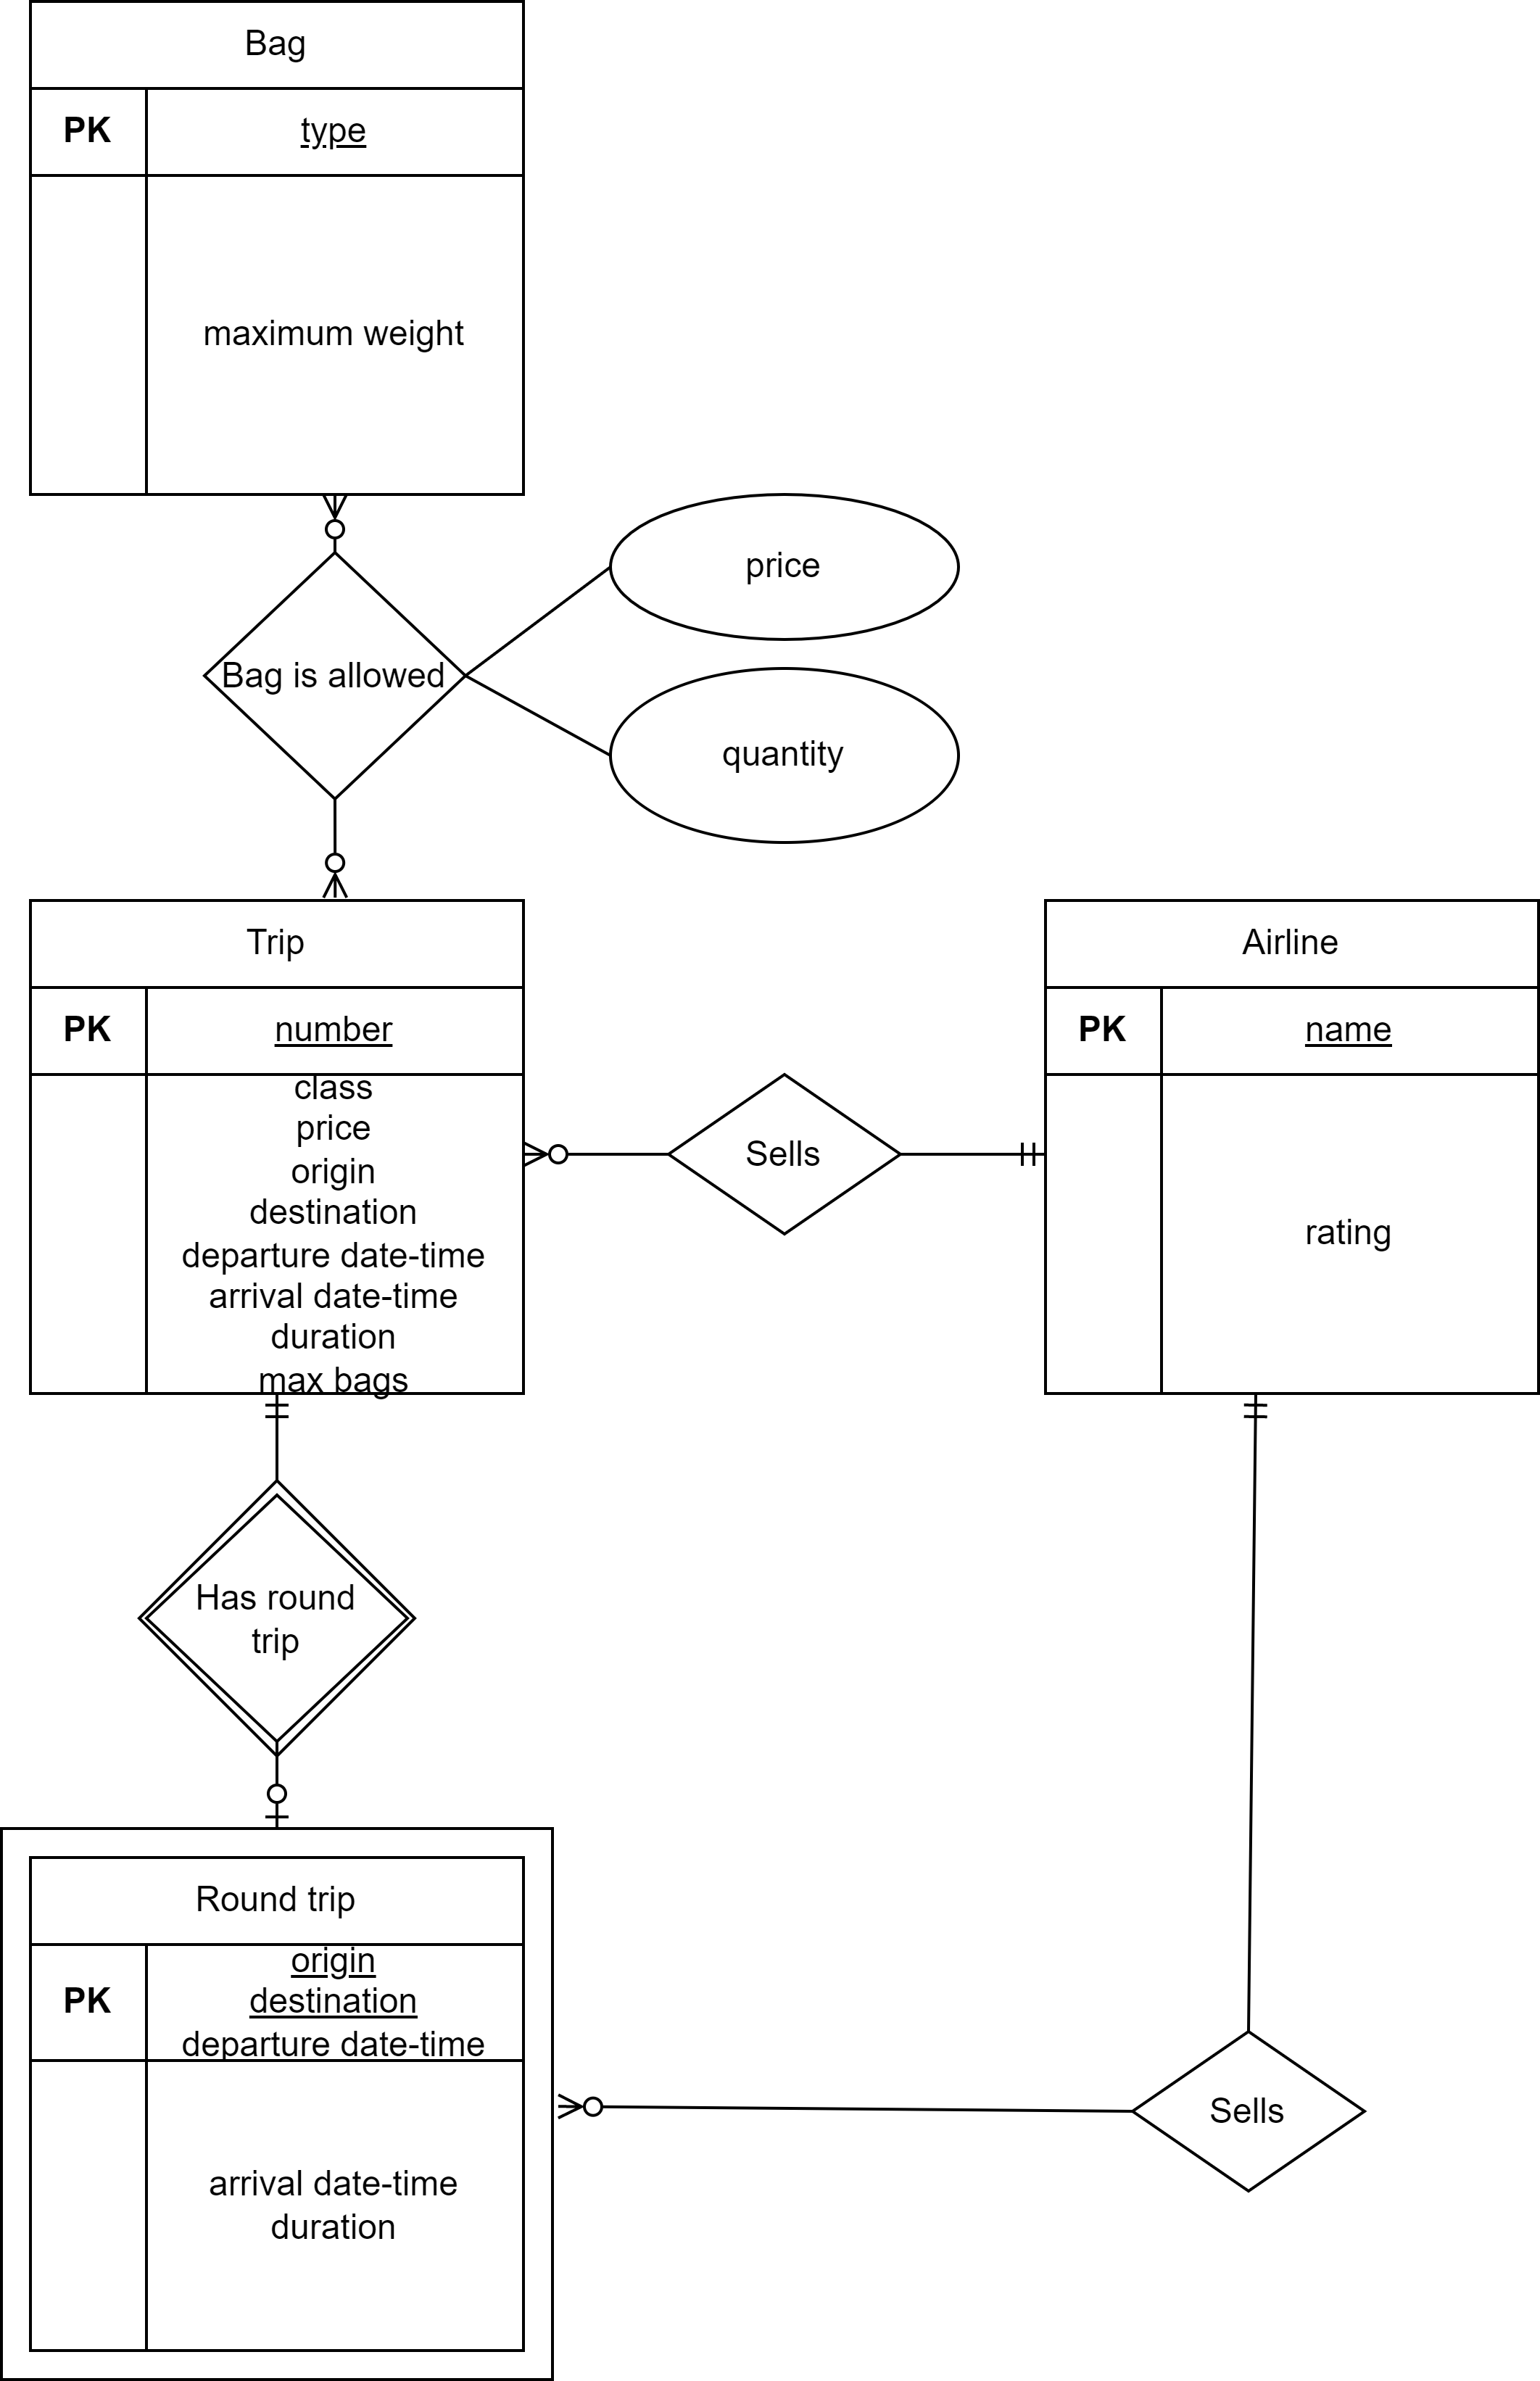entity: (26, 901, 524, 1397), (31, 2, 530, 495), (1043, 906, 1540, 1395)
ident_rel: (134, 1477, 422, 1760)
many: (556, 2089, 656, 2128), (319, 798, 354, 901), (524, 1137, 611, 1173), (321, 495, 351, 555)
one: (1240, 1392, 1273, 1473), (260, 1755, 292, 1831), (264, 1390, 293, 1459), (974, 1142, 1047, 1170)
rel: (207, 552, 465, 797), (1134, 2027, 1361, 2192), (672, 1076, 898, 1237)
rel_attr: (616, 665, 960, 842), (611, 495, 960, 639)
weak_entity: (5, 1826, 550, 2381)
